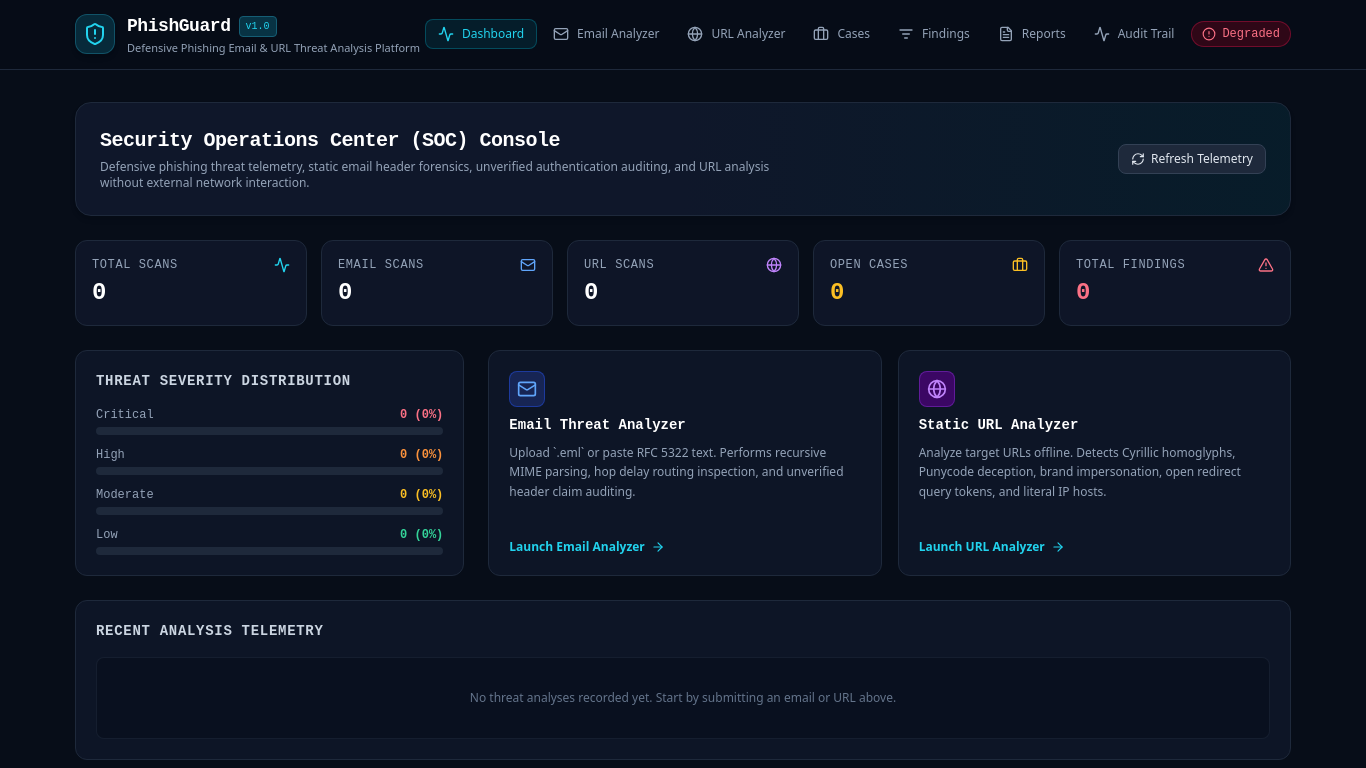
Scenario: PhishGuard Frontend Smoke & Component Tests › switches navigation tabs upon user click
Click the button "Email Analyzer".
click(606, 34)  # box [541, 20, 671, 48]
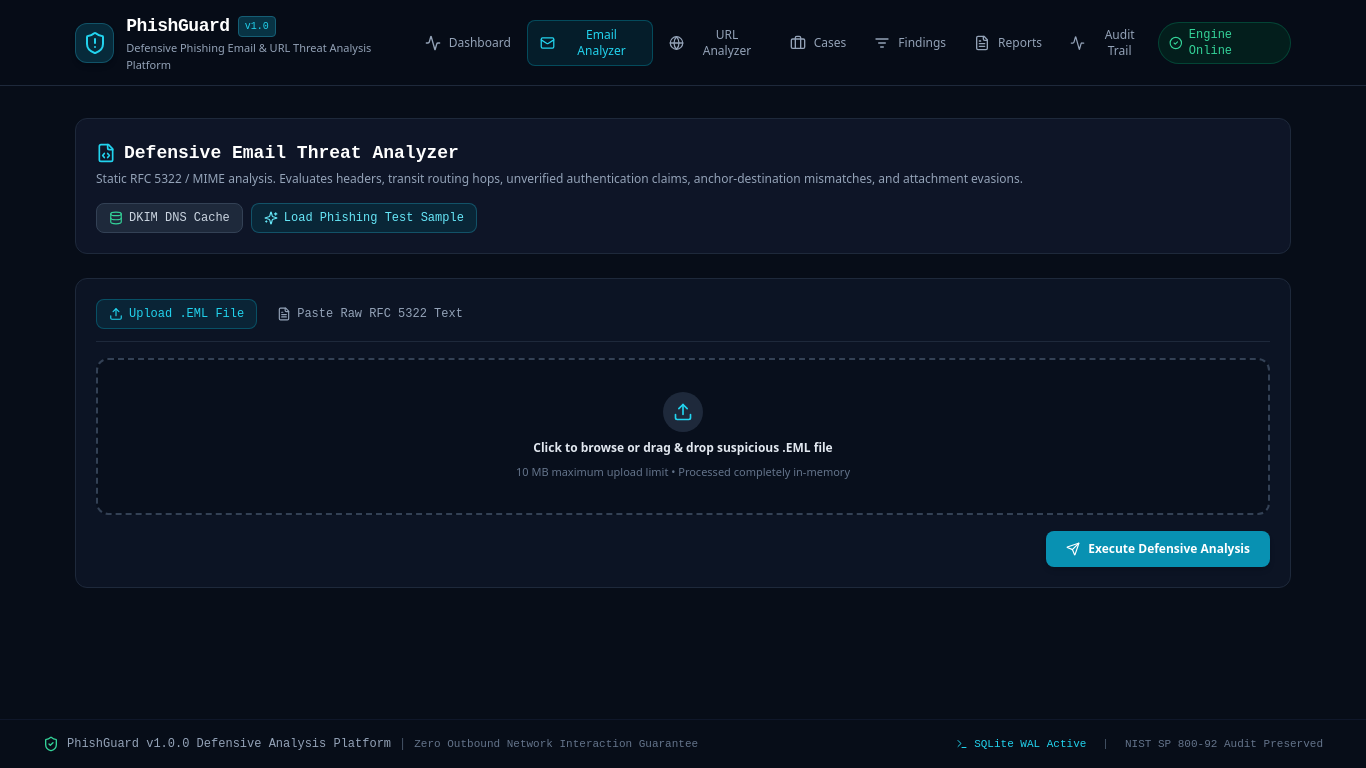
Expected: the heading "Defensive Email Threat Analyzer" is shown, [96, 143, 459, 163]
Click the button "URL Analyzer".
click(715, 42)  # box [657, 20, 774, 64]
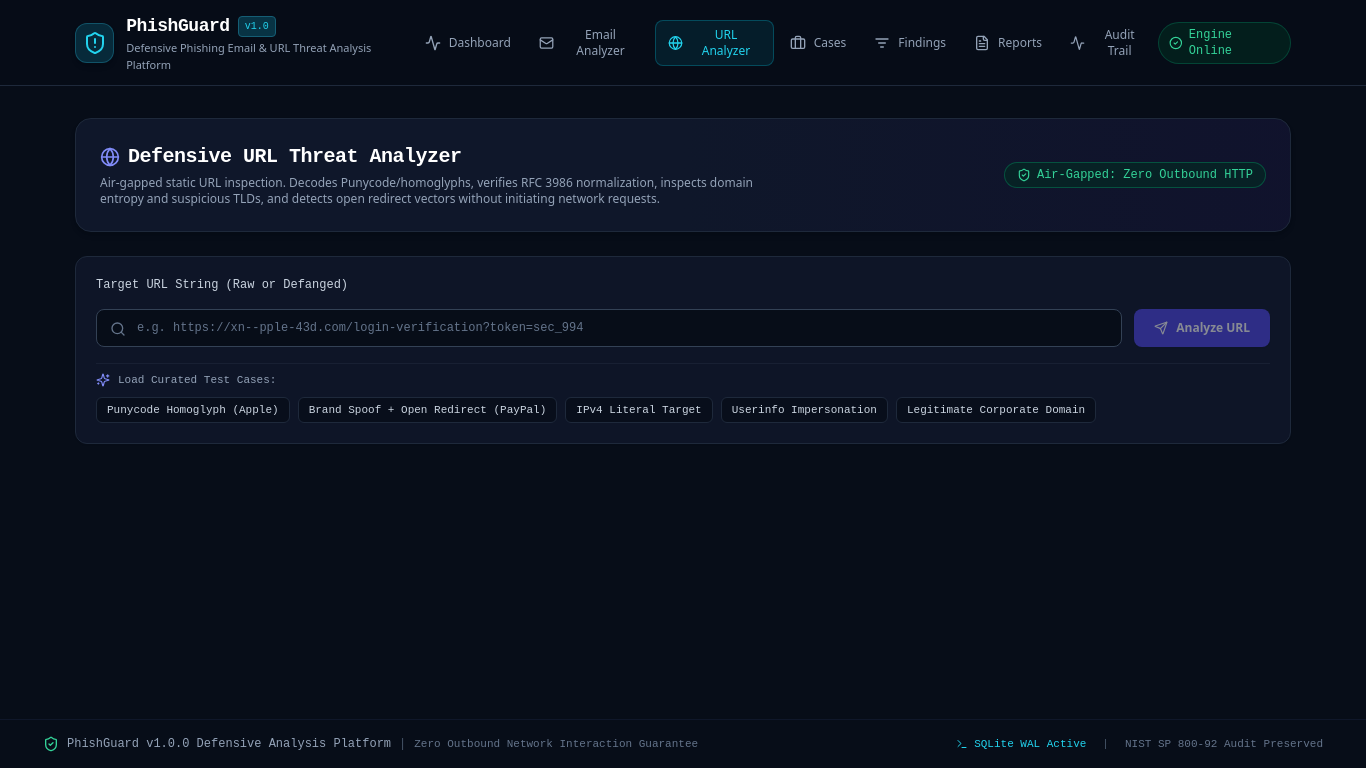
Expected: the heading "Defensive URL Threat Analyzer" is shown, [100, 145, 462, 168]
